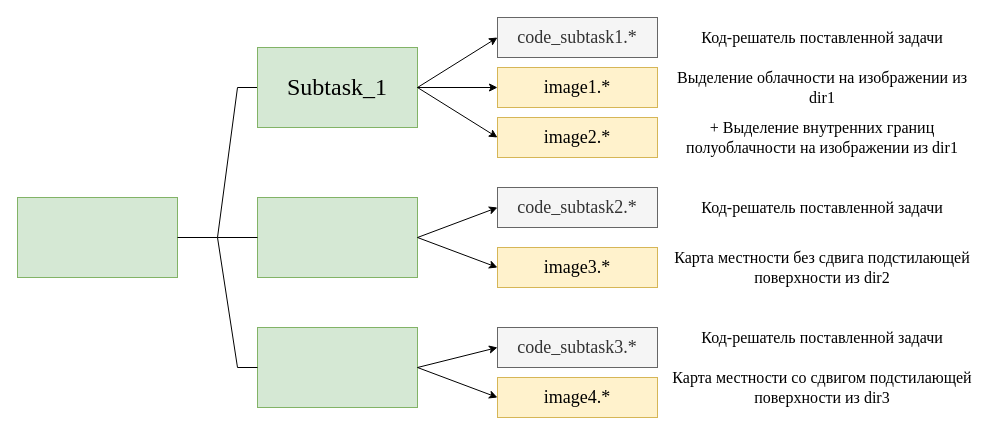
Some shapes in this 995 by 435 pixel diagram are drawn without their labels. The shapes that lost their labels are listed below. From the top down, each one's centre as x and y in pixels, then its label:
At pixel 97 237: "Problem_3".
At pixel 337 237: "Subtask_2".
At pixel 337 367: "Subtask_3".
